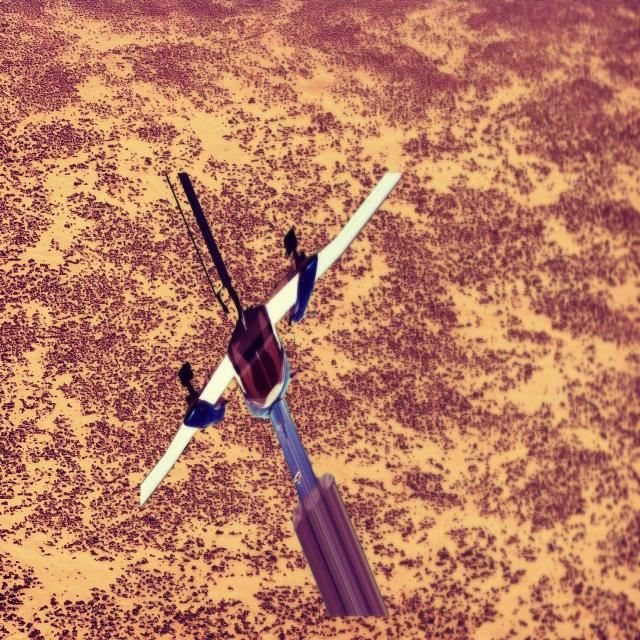airplane: (139, 166, 401, 620)
